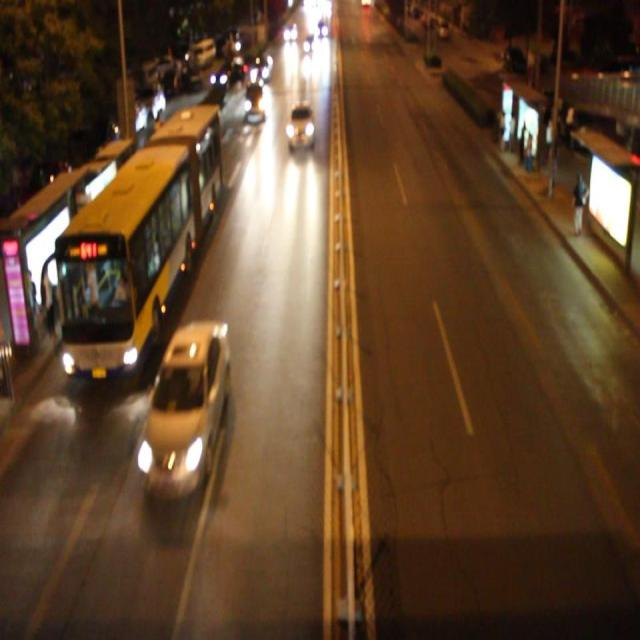car: (139, 318, 228, 498), (285, 100, 314, 150), (249, 54, 273, 85)
truck: (242, 78, 266, 120)
van: (60, 106, 219, 380)
